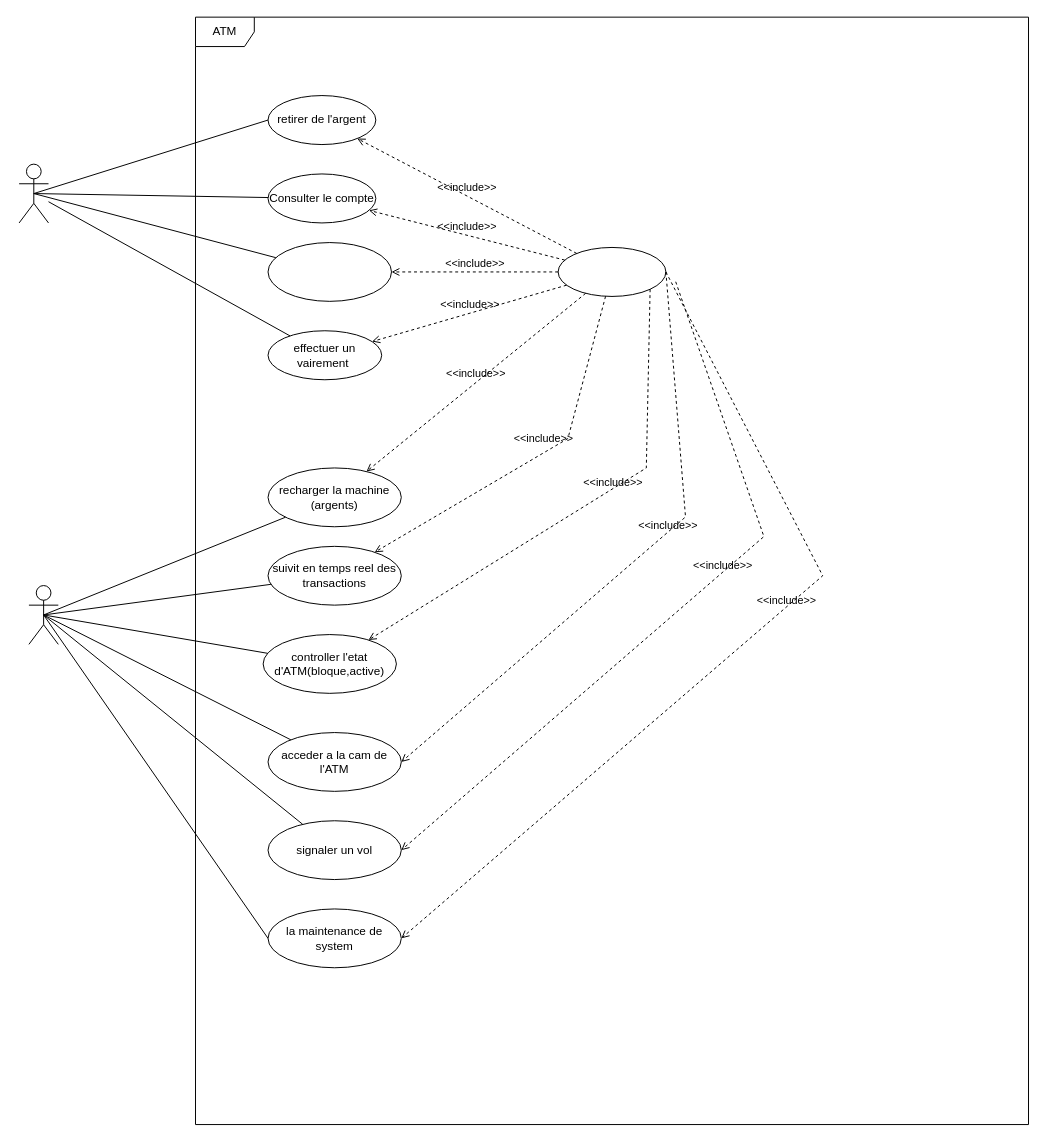
Image size: 1046x1142. Some labels were removed from this diagram. The centre of each missing label's shape, as x and y in pixels:
Admin: (43,614)
Client: (33,193)
consulter l'historique transaction: (329,271)
S'authentifier: (611,271)
